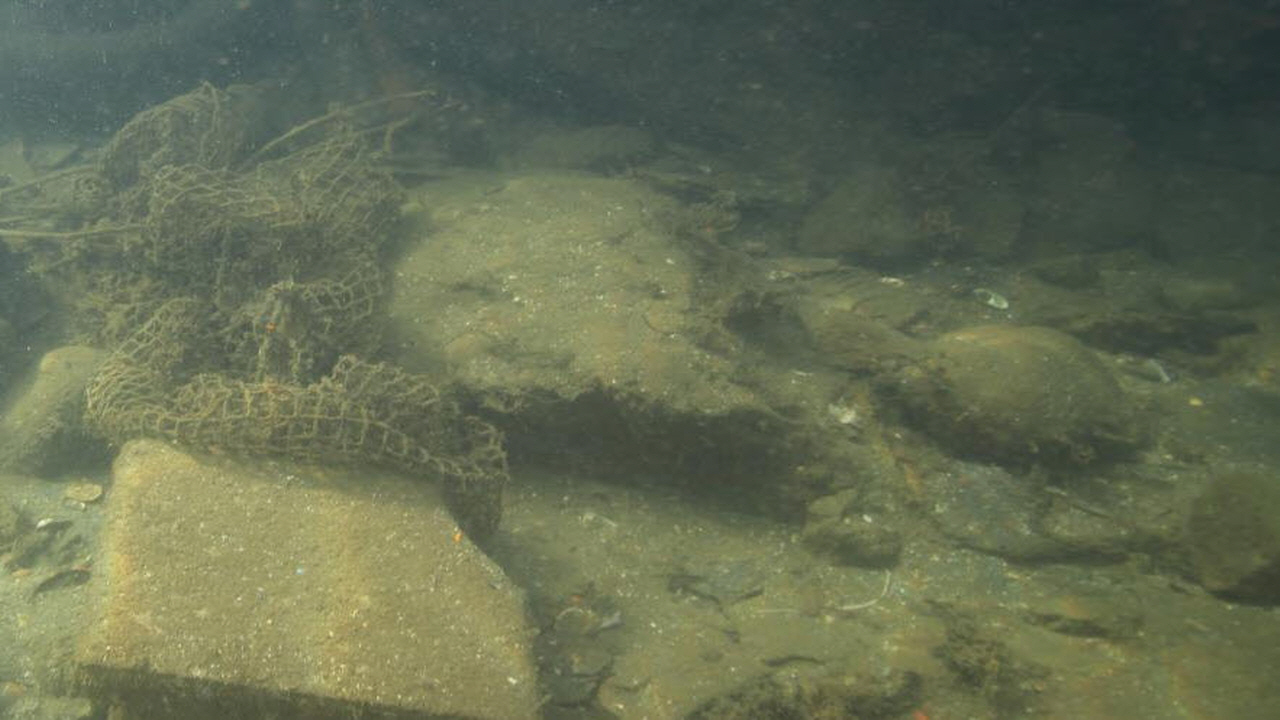fish net: (81, 81, 507, 538)
